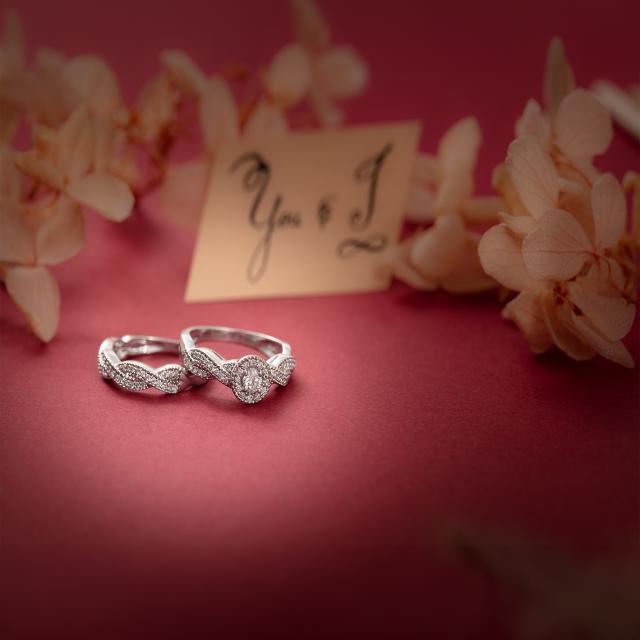Ring: (180, 302, 302, 409), (91, 296, 200, 405)
